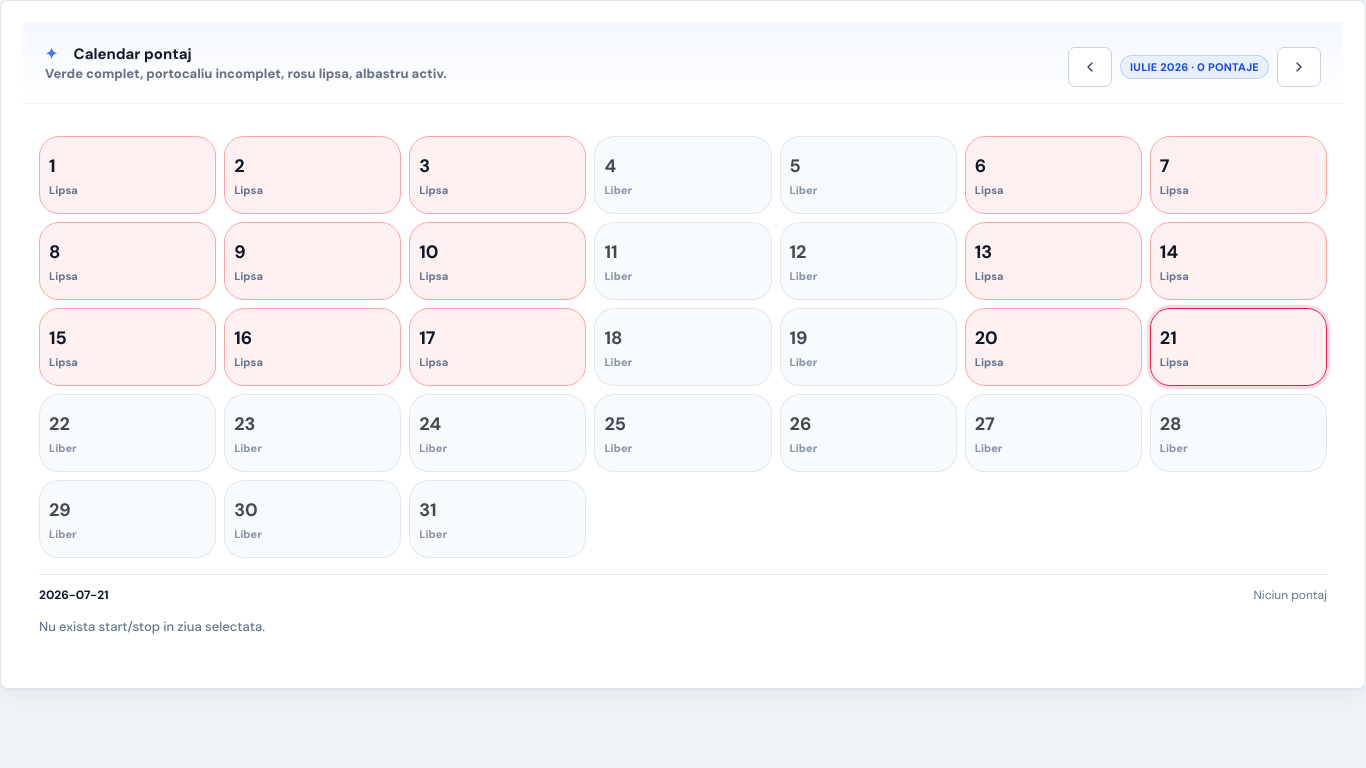
it: TimesheetCalendar › navigates to the previous month and shows its persisted hours
This screenshot has width=1366, height=768.
Expected: the text "iulie 2026 · 0 pontaje" is shown, [1120,55,1269,79]
Click the button named "Luna anterioara". click: (1090, 67)
box: [1068,47,1112,87]
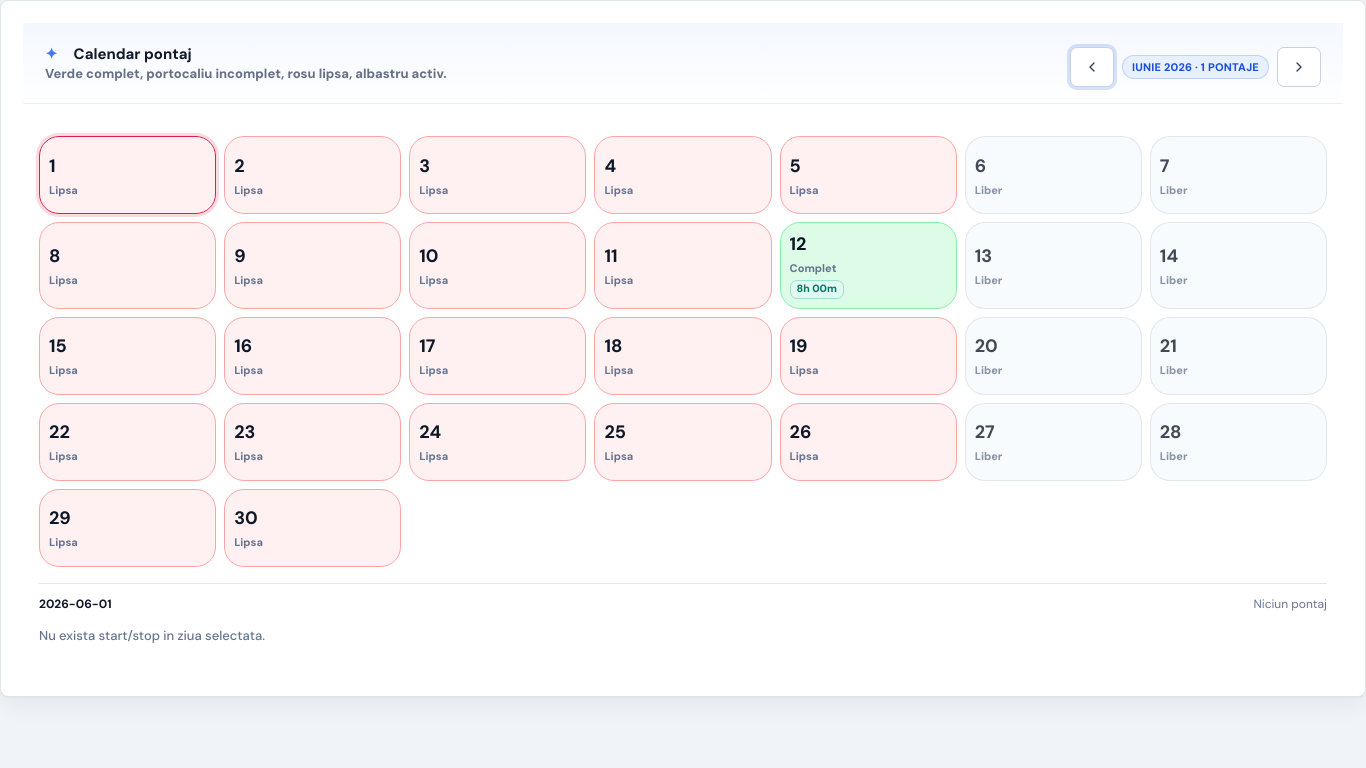
Now the text "iunie 2026 · 1 pontaje" is shown, box [1122,55,1269,79]
